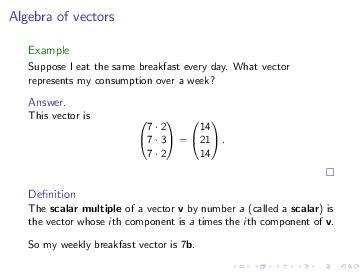paragraph: (21, 36, 348, 262)
title: (7, 7, 117, 26)
